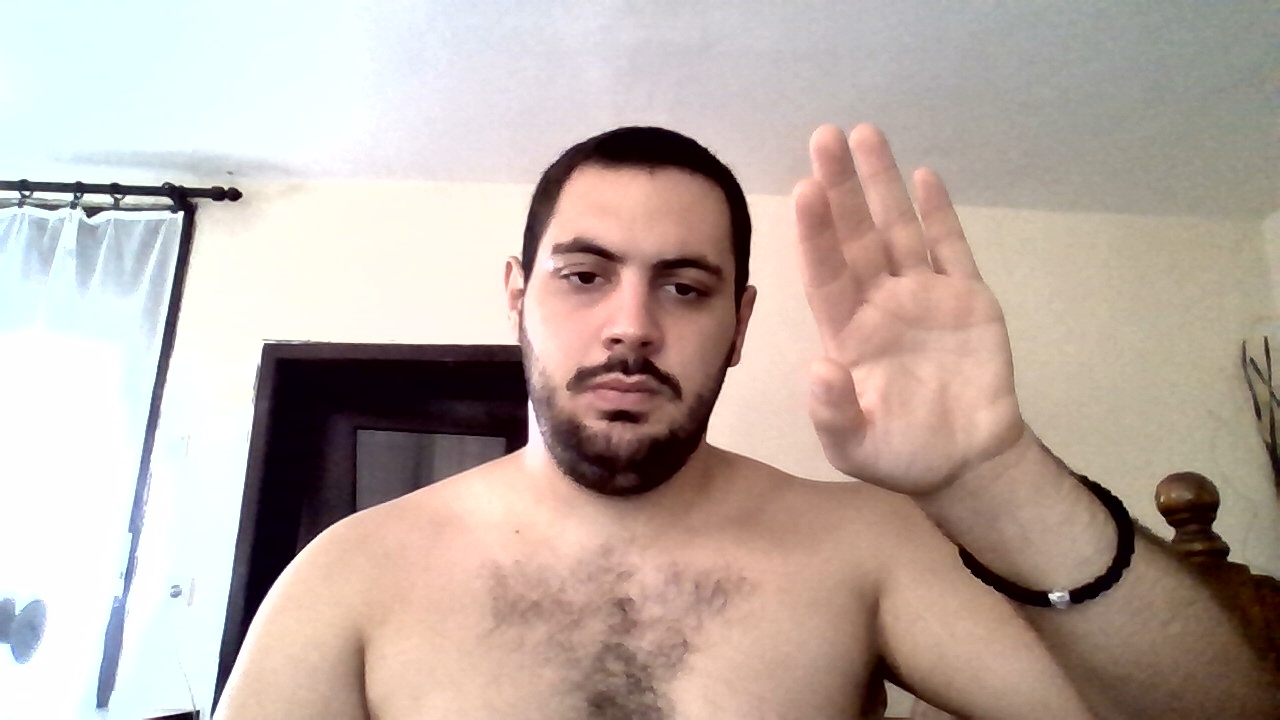palm: (794, 116, 1020, 488)
